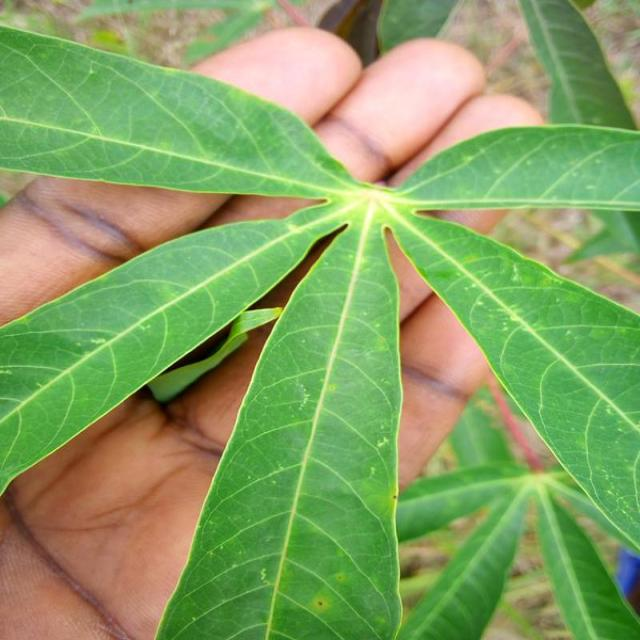cassava leaf: (1, 20, 638, 636), (153, 203, 403, 638)
